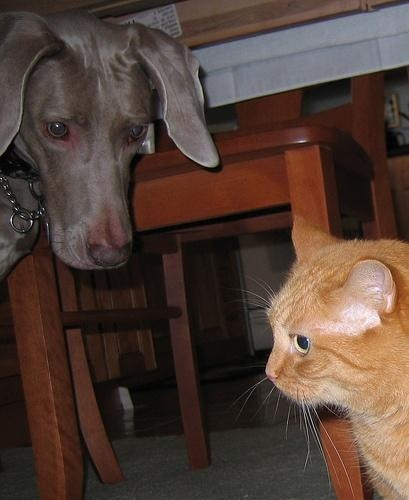cat: (267, 215, 409, 500)
chair: (4, 125, 364, 500)
dog: (1, 9, 224, 281)
